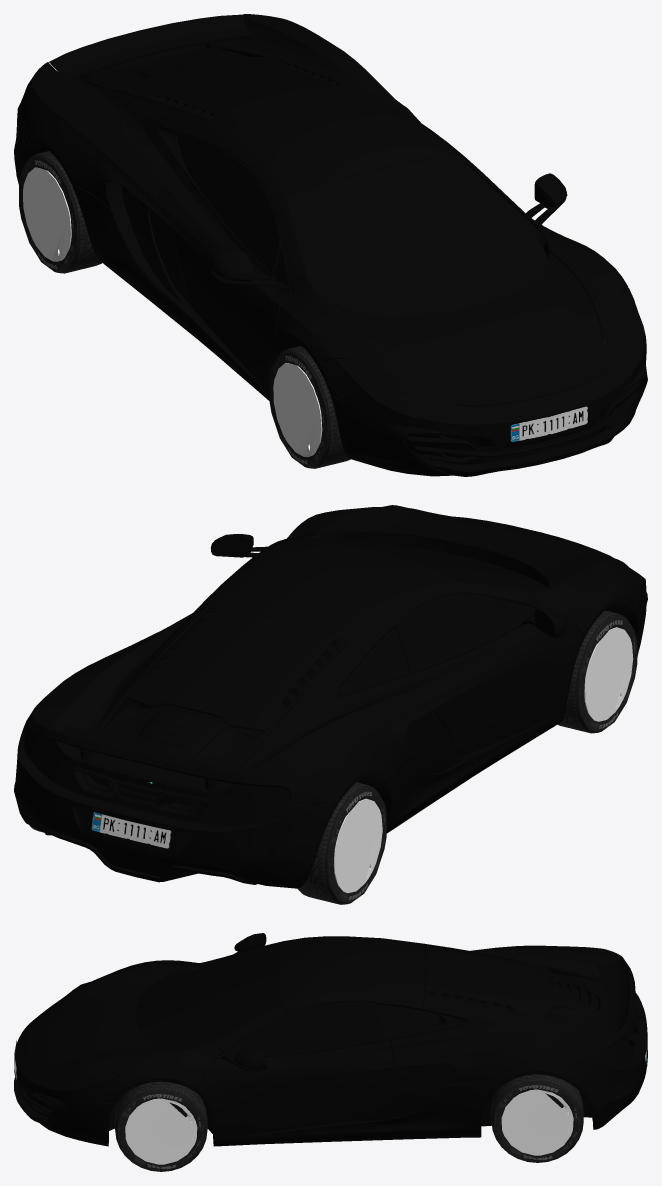
Rendered from McLaren 12C_black.fbx.
3 renders of one model, top to bottom at view 1: azimuth 30°, elevation 25°; view 2: azimuth 150°, elevation 25°; view 3: azimuth 270°, elevation 25°, orthographic. The views are drawn at different scales.
Parts seen in each view (by area): view 1: Body.001, Wheel_FR, Wheel_BL; view 2: Body.001, Wheel_BL, Wheel_FR; view 3: Body.001, Wheel_FL, Wheel_BR.
Boxes of the visible parts, bbox=[...] form: Body.001: bbox=[14, 14, 647, 476]; Wheel_FR: bbox=[269, 346, 350, 468]; Wheel_BL: bbox=[19, 151, 102, 273]; Body.001: bbox=[14, 505, 647, 888]; Wheel_BL: bbox=[298, 782, 386, 904]; Wheel_FR: bbox=[557, 610, 637, 733]; Body.001: bbox=[14, 933, 647, 1146]; Wheel_FL: bbox=[115, 1081, 207, 1171]; Wheel_BR: bbox=[491, 1074, 583, 1162].
Size of the model in its own units: 3.44 by 1.99 by 7.18.
